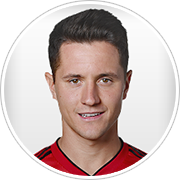face: (41, 48, 134, 134)
